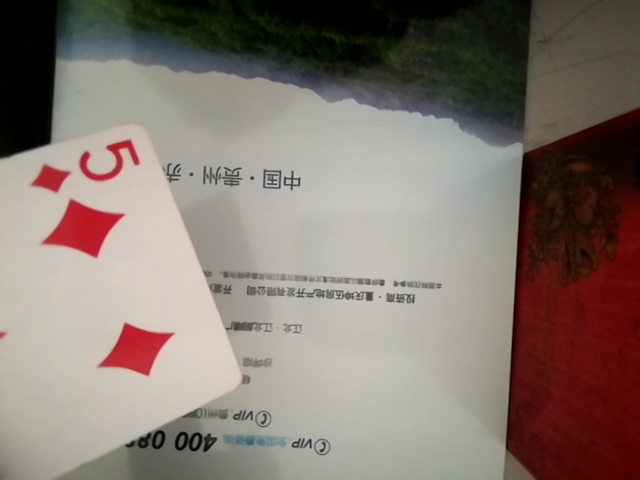fk 5: (0, 126, 251, 479)
